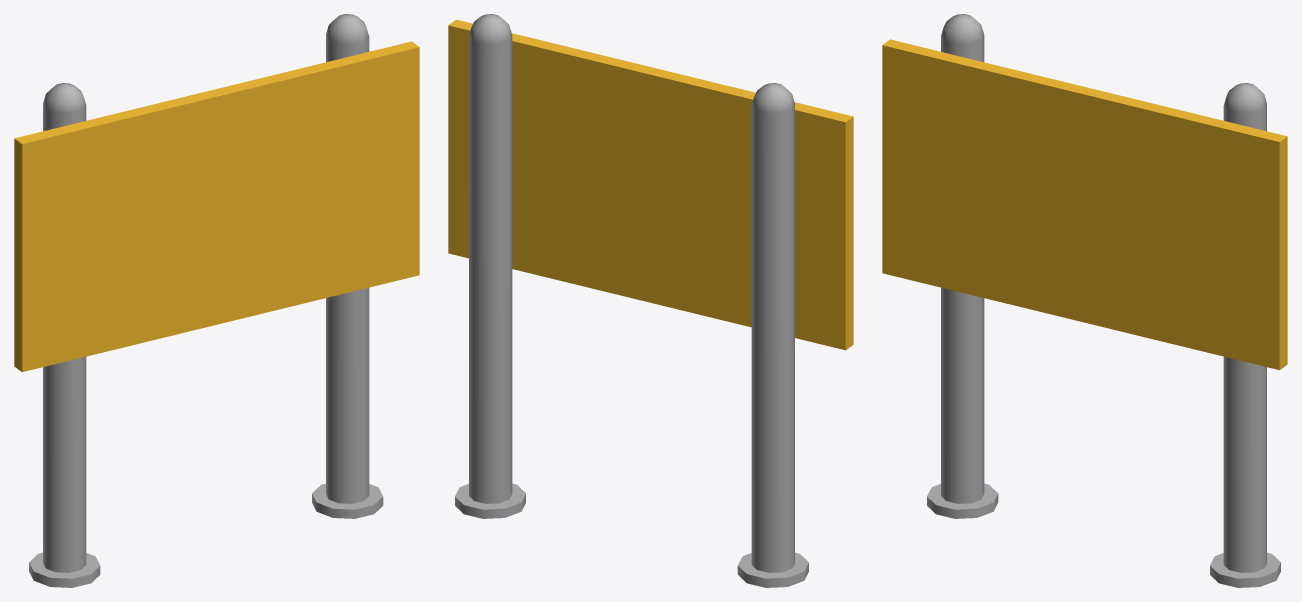
The model's file is Road_SignageBord.fbx.
The picture shows the model from 3 angles, left to right: view 1: azimuth 30°, elevation 25°; view 2: azimuth 150°, elevation 25°; view 3: azimuth 330°, elevation 25°; orthographic projection.
Parts seen in each view (by area): view 1: Road_SignageBord; view 2: Road_SignageBord; view 3: Road_SignageBord.
Part boxes in pixels (x1=…): Road_SignageBord: x1=14, y1=14, x2=419, y2=587; Road_SignageBord: x1=448, y1=14, x2=853, y2=587; Road_SignageBord: x1=882, y1=14, x2=1287, y2=587.
Bounding box in the file's own units: 0.676 × 0.7934 × 0.1058.
